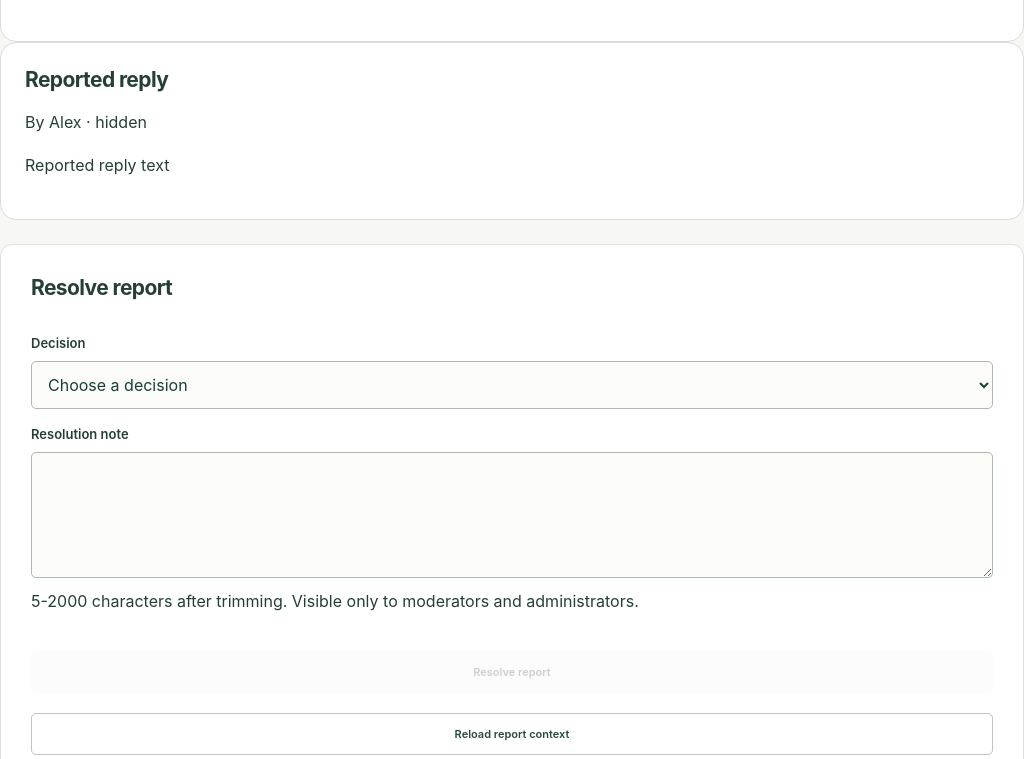
Scenario: validates trimmed note bounds before sending and only offers eligible decisions
(page scrolled)
Select "Acknowledge already hidden content" in the dropdown labelled "Decision". click: (512, 385)
box: [31,361,993,409]
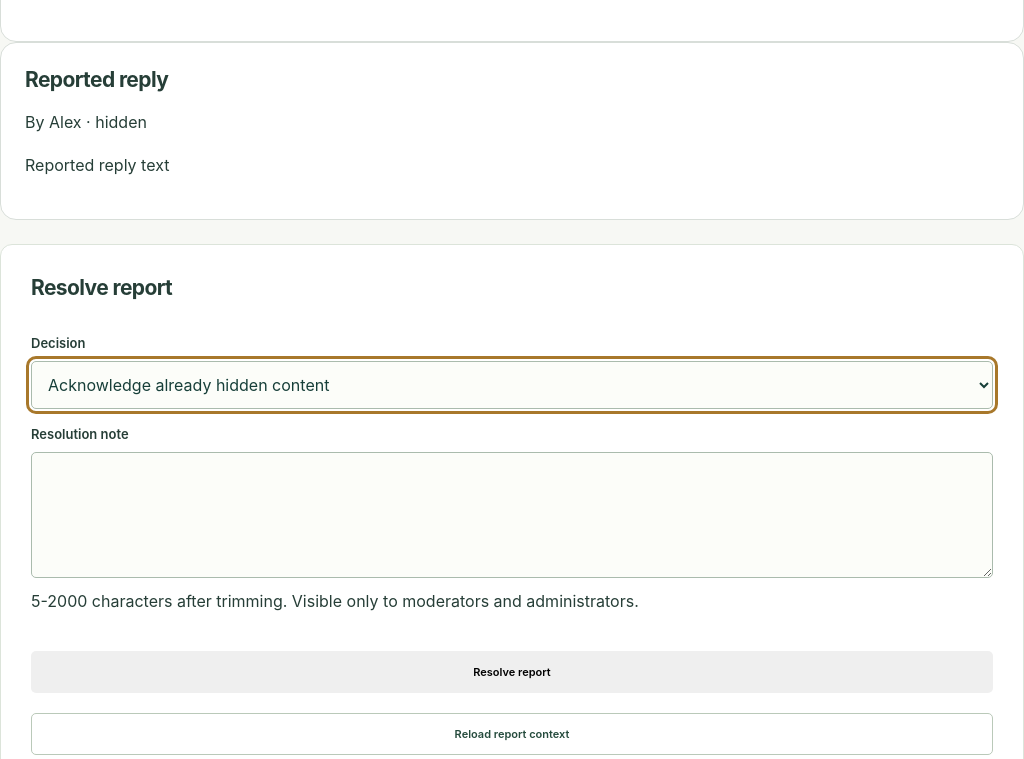
Type " tiny " into the text box labelled "Resolution note". click: (512, 515)
box: [31,452,993,578]
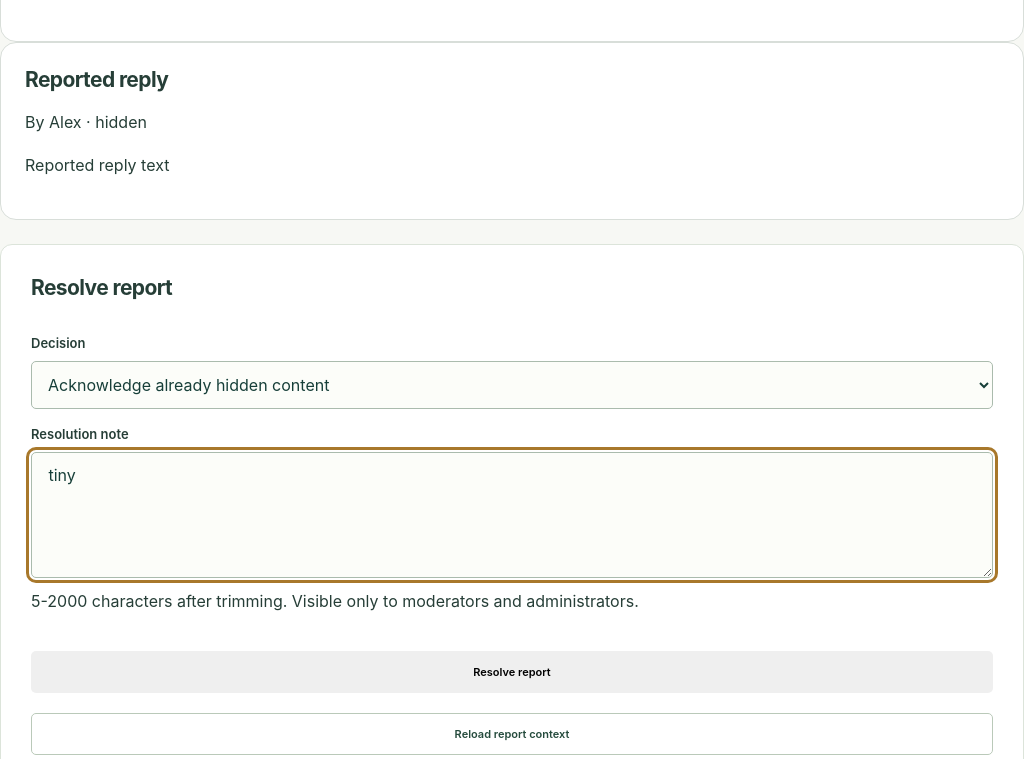
Click the button "Resolve report". click: (512, 672)
box: [31,651,993,693]
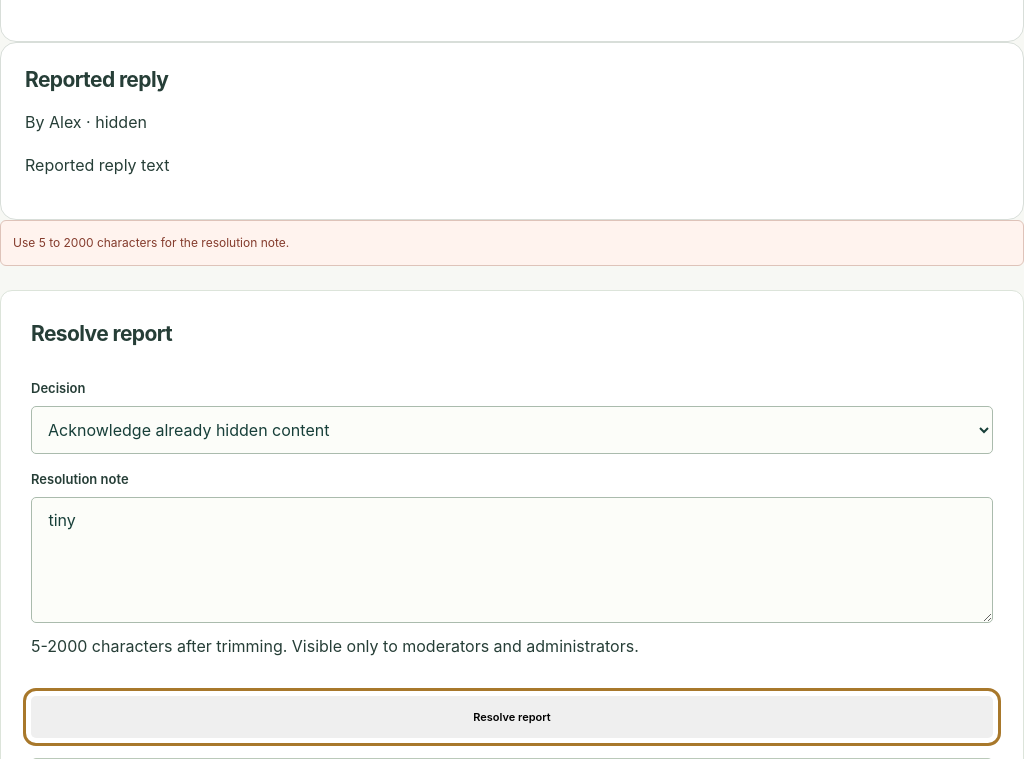
Check: the message shows "5 to 2000", box [13,236,289,250]
